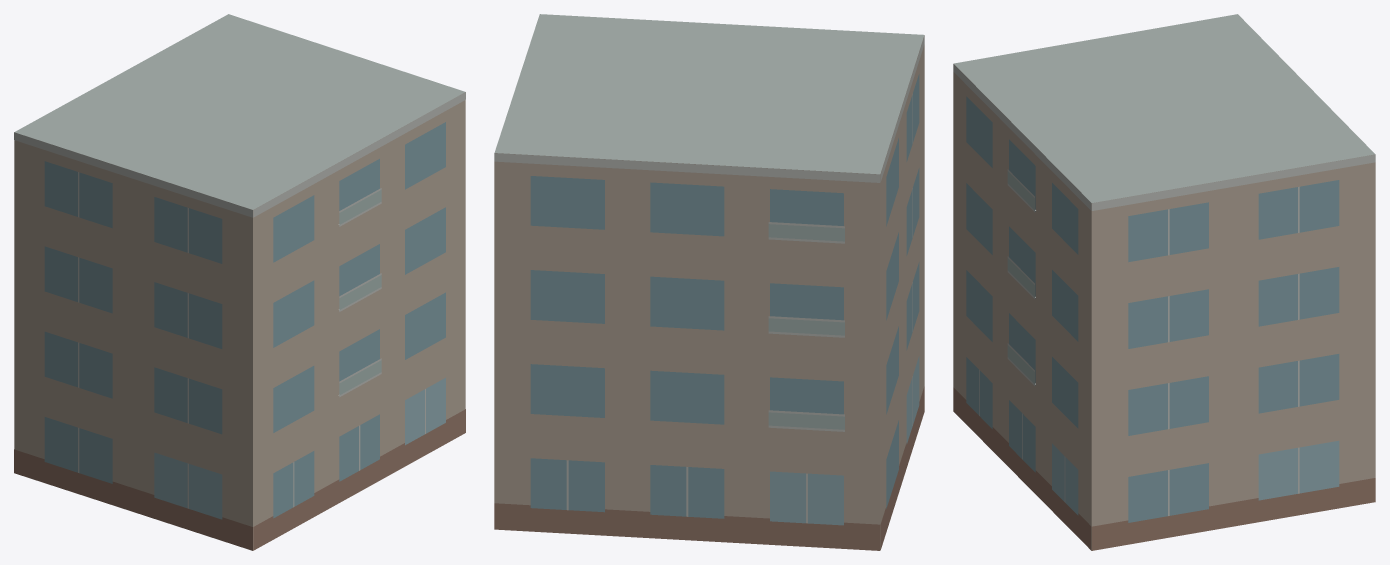
Rendered from survey-upis-32606836.glb.
3 renders of one model, left to right at view 1: azimuth 30°, elevation 25°; view 2: azimuth 150°, elevation 25°; view 3: azimuth 270°, elevation 25°, orthographic. The views are drawn at different scales.
Visible parts, largest first — view 1: survey-upis-32606836.tmp; view 2: survey-upis-32606836.tmp; view 3: survey-upis-32606836.tmp.
Part boxes in pixels (left/top/right/bottom): survey-upis-32606836.tmp: left=14, top=14, right=465, bottom=550; survey-upis-32606836.tmp: left=494, top=14, right=924, bottom=550; survey-upis-32606836.tmp: left=953, top=14, right=1375, bottom=550.
Bounding box in the file's own units: 12.38 × 10.6 × 11.67.
